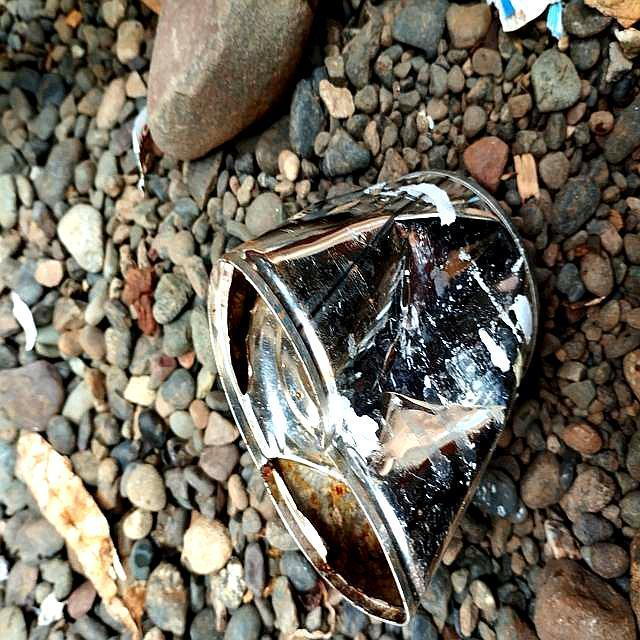Non-biodegradable: (205, 168, 541, 628)
